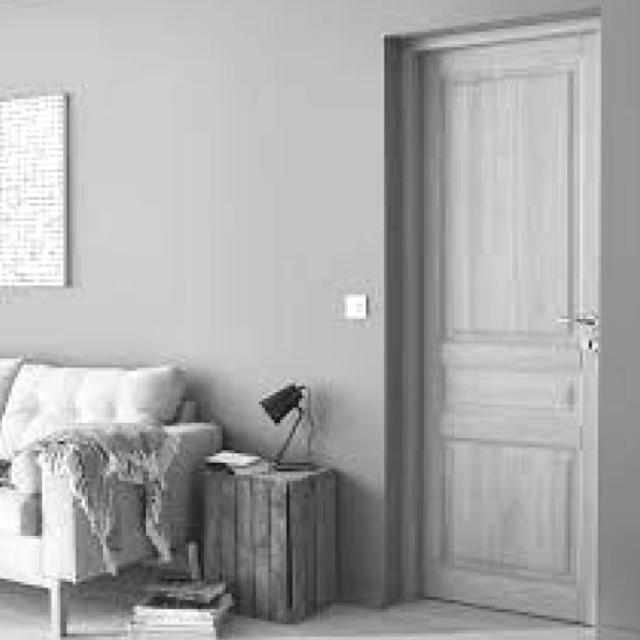door: (413, 23, 600, 626)
